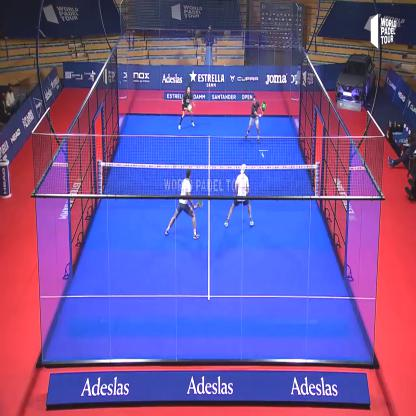ball: (260, 150, 270, 161)
